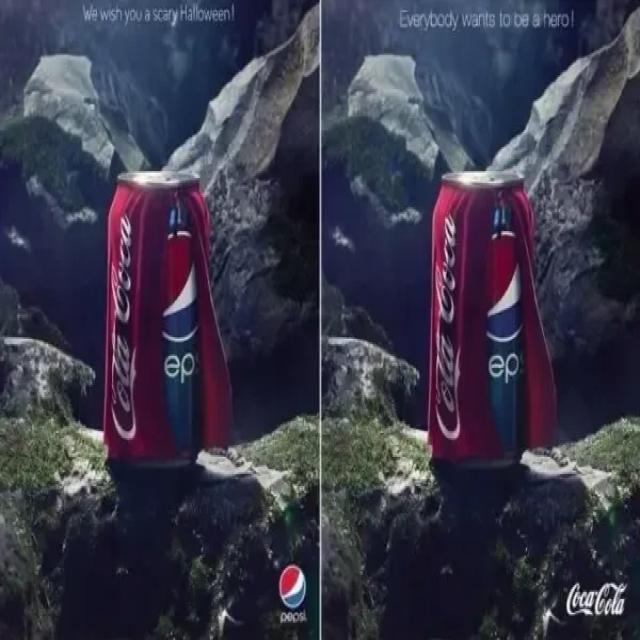nike: (106, 205, 144, 444), (433, 204, 468, 446)
